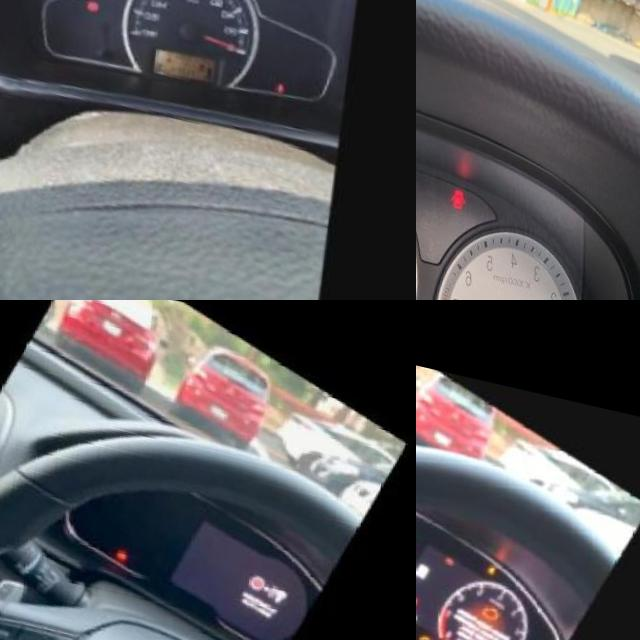Doors: (456, 167, 474, 192)
